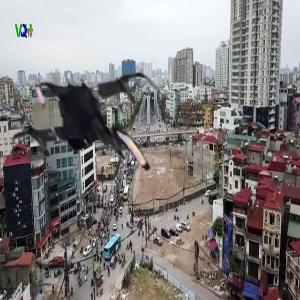drone: (6, 49, 179, 222)
